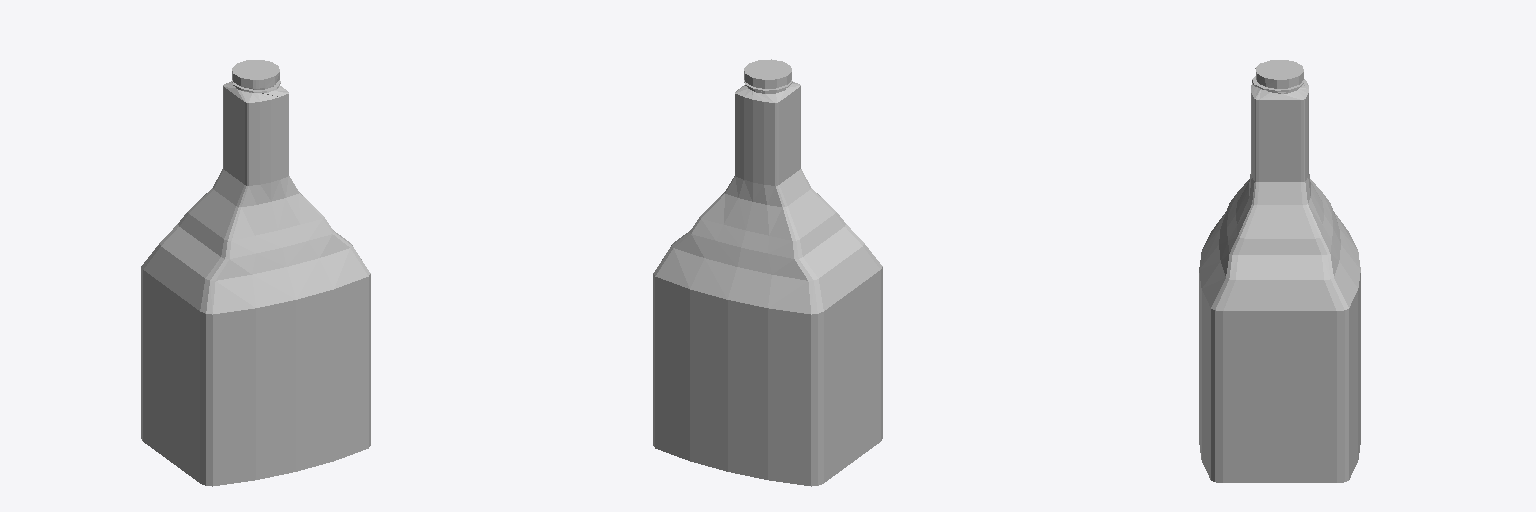
Rendered from kicha.obj.
3 renders of one model, left to right at view 1: azimuth 30°, elevation 25°; view 2: azimuth 150°, elevation 25°; view 3: azimuth 270°, elevation 25°, orthographic.
Parts seen in each view (by area): view 1: Cube_Cube.001; view 2: Cube_Cube.001; view 3: Cube_Cube.001.
Boxes of the visible parts, box(x1,y1,x2,y2) form: Cube_Cube.001: box(141, 60, 370, 486); Cube_Cube.001: box(653, 59, 882, 486); Cube_Cube.001: box(1199, 60, 1360, 482).
Bounding box in the file's own units: 1.58 × 3.33 × 1.31.